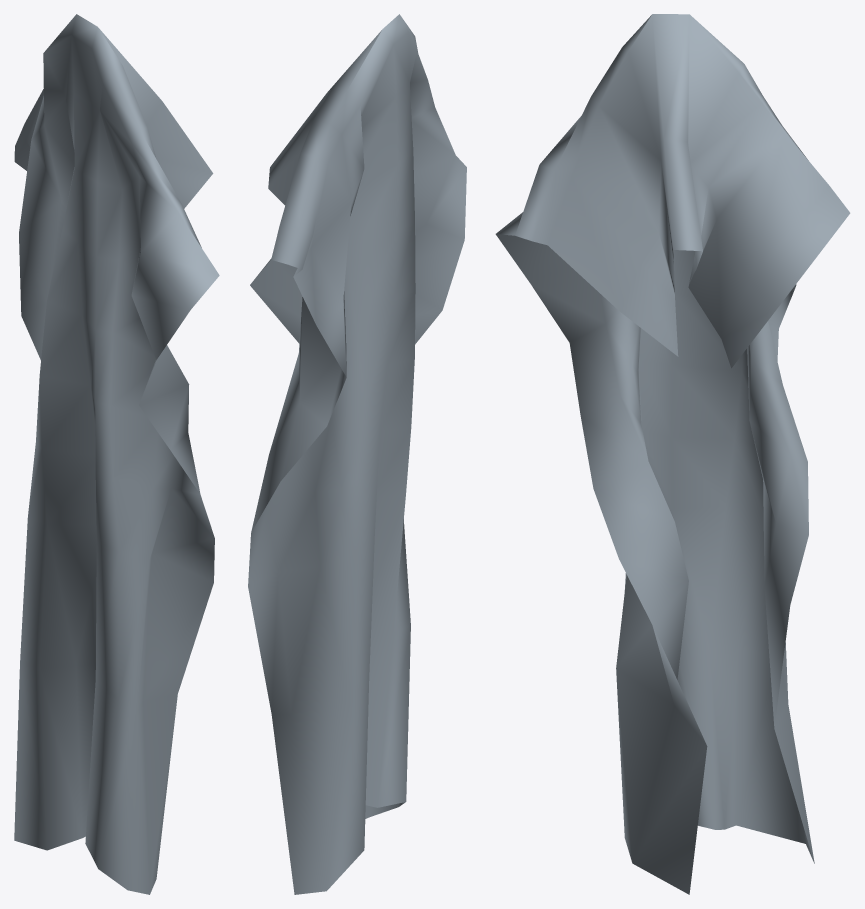
Rendered from Towel02.fbx.
The picture shows the model from 3 angles, left to right: view 1: azimuth 30°, elevation 25°; view 2: azimuth 150°, elevation 25°; view 3: azimuth 270°, elevation 25°; orthographic projection. The views are drawn at different scales.
Visible parts, largest first — view 1: Towel02; view 2: Towel02; view 3: Towel02.
Boxes of the visible parts, box(x1,y1,x2,y2) form: Towel02: box(14, 14, 219, 894); Towel02: box(248, 14, 466, 894); Towel02: box(495, 14, 850, 894).
Bounding box in the file's own units: 0.1365 × 0.8283 × 0.3156.
